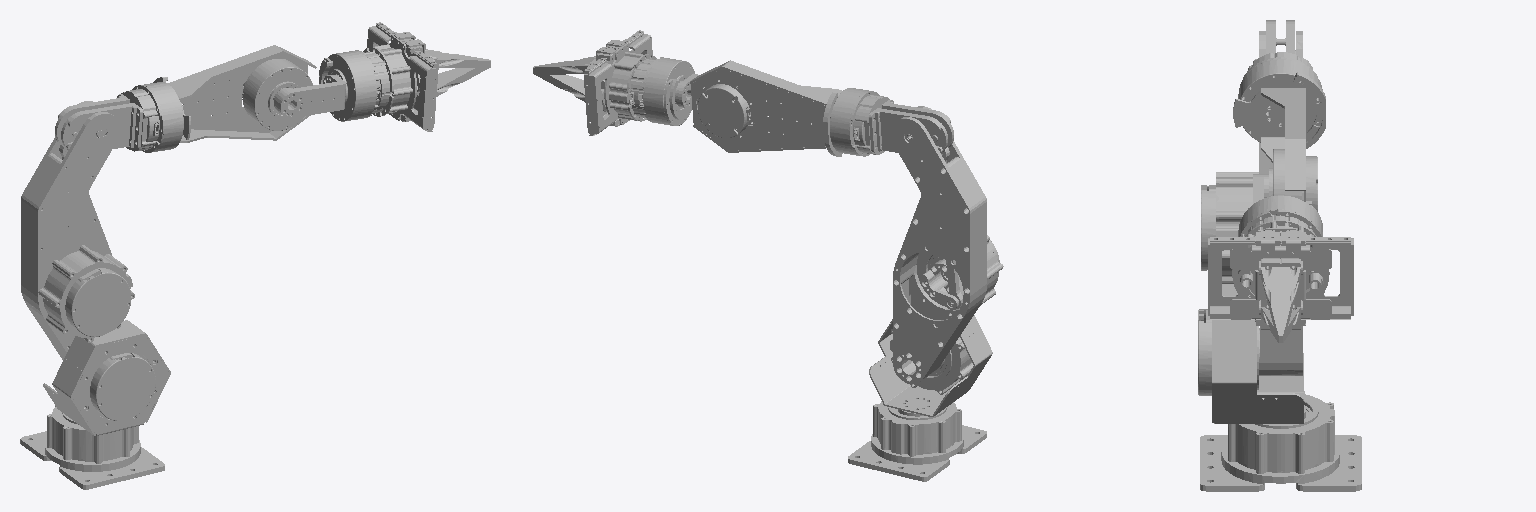
The robot description file, URDF, robot "mevion":
<?xml version='1.0' encoding='UTF-8'?>
<robot name="mevion">
  <link name="RL_base_link">
    <inertial>
      <origin xyz="4.48986707996124e-05 1.56759680411714e-05 0.0271570776976561" rpy="0.0 -0.0 0.0"/>
      <mass value="1.15231569296786"/>
      <inertia ixx="0.00121639765481248" ixy="2.16045733589472e-06" ixz="1.27211558344771e-07" iyy="0.000930183088898648" iyz="7.71652399037108e-07" izz="0.00201898237273294"/>
    </inertial>
    <visual>
      <geometry>
        <mesh filename="package://mevion/models/meshes/base_link.STL"/>
      </geometry>
      <material name="color"/>
      <origin xyz="0.0 0.0 0.0" rpy="0.0 -0.0 0.0"/>
    </visual>
    <collision>
      <geometry>
        <mesh filename="package://mevion/models/meshes/base_link.STL"/>
      </geometry>
      <origin xyz="0.0 0.0 0.0" rpy="0.0 -0.0 0.0"/>
    </collision>
  </link>
  <link name="RL_shoulder_link">
    <inertial>
      <origin xyz="1.32391512477042e-05 -0.0409446319565604 0.0539290225644971" rpy="0.0 -0.0 0.0"/>
      <mass value="1.3644125395524"/>
      <inertia ixx="0.00124826945079962" ixy="7.71652399036369e-07" ixz="1.40973960628106e-06" iyy="0.00225976686875303" iyz="0.000129017482212155" izz="0.00163541860832696"/>
    </inertial>
    <visual>
      <geometry>
        <mesh filename="package://mevion/models/meshes/shoulder_link.STL"/>
      </geometry>
      <material name="color"/>
      <origin xyz="0.0 0.0 0.0" rpy="0.0 -0.0 0.0"/>
    </visual>
    <collision>
      <geometry>
        <mesh filename="package://mevion/models/meshes/shoulder_link.STL"/>
      </geometry>
      <origin xyz="0.0 0.0 0.0" rpy="0.0 -0.0 0.0"/>
    </collision>
  </link>
  <link name="RL_upper_link">
    <inertial>
      <origin xyz="-0.0277618483264825 -0.0012686382672129 0.125214854323048" rpy="0.0 -0.0 0.0"/>
      <mass value="1.80094445183212"/>
      <inertia ixx="0.00803749436721916" ixy="1.14800261763492e-07" ixz="0.000406578011332191" iyy="0.00930308292156413" iyz="-1.22606639516895e-06" izz="0.00145022373082752"/>
    </inertial>
    <visual>
      <geometry>
        <mesh filename="package://mevion/models/meshes/upper_link.STL"/>
      </geometry>
      <material name="color"/>
      <origin xyz="0.0 0.0 0.0" rpy="0.0 -0.0 0.0"/>
    </visual>
    <collision>
      <geometry>
        <mesh filename="package://mevion/models/meshes/upper_link.STL"/>
      </geometry>
      <origin xyz="0.0 0.0 0.0" rpy="0.0 -0.0 0.0"/>
    </collision>
  </link>
  <link name="RL_lower1_link">
    <inertial>
      <origin xyz="0.000216390735208159 0.00085993851271662 0.0518105566861265" rpy="0.0 -0.0 0.0"/>
      <mass value="0.759808237991183"/>
      <inertia ixx="0.000385157367730232" ixy="2.12381732851174e-07" ixz="-6.77307827524159e-08" iyy="0.000439974465703987" iyz="1.32894830907232e-06" izz="0.000468001343308467"/>
    </inertial>
    <visual>
      <geometry>
        <mesh filename="package://mevion/models/meshes/lower1_link.STL"/>
      </geometry>
      <material name="color"/>
      <origin xyz="0.0 0.0 0.0" rpy="0.0 -0.0 0.0"/>
    </visual>
    <collision>
      <geometry>
        <mesh filename="package://mevion/models/meshes/lower1_link.STL"/>
      </geometry>
      <origin xyz="0.0 0.0 0.0" rpy="0.0 -0.0 0.0"/>
    </collision>
  </link>
  <link name="RL_lower2_link">
    <inertial>
      <origin xyz="-0.000278339581275338 0.0123874376852598 0.124865641413663" rpy="0.0 -0.0 0.0"/>
      <mass value="0.583365919550584"/>
      <inertia ixx="0.000771948673443437" ixy="-7.69274924911199e-08" ixz="2.53703947046426e-07" iyy="0.00106516226878555" iyz="-4.63320416929162e-05" izz="0.000375373330701929"/>
    </inertial>
    <visual>
      <geometry>
        <mesh filename="package://mevion/models/meshes/lower2_link.STL"/>
      </geometry>
      <material name="color"/>
      <origin xyz="0.0 0.0 0.0" rpy="0.0 -0.0 0.0"/>
    </visual>
    <collision>
      <geometry>
        <mesh filename="package://mevion/models/meshes/lower2_link.STL"/>
      </geometry>
      <origin xyz="0.0 0.0 0.0" rpy="0.0 -0.0 0.0"/>
    </collision>
  </link>
  <link name="RL_wrist_link">
    <inertial>
      <origin xyz="-1.96082330388783e-16 -0.0041231568611668 0.0340020937943818" rpy="0.0 -0.0 0.0"/>
      <mass value="0.131493017924709"/>
      <inertia ixx="7.37027067414564e-05" ixy="1.58073820480577e-20" ixz="2.25784009070445e-19" iyy="7.41887028724778e-05" iyz="-7.28567584499028e-06" izz="1.53903100360496e-05"/>
    </inertial>
    <visual>
      <geometry>
        <mesh filename="package://mevion/models/meshes/wrist_link.STL"/>
      </geometry>
      <material name="color"/>
      <origin xyz="0.0 0.0 0.0" rpy="0.0 -0.0 0.0"/>
    </visual>
    <collision>
      <geometry>
        <mesh filename="package://mevion/models/meshes/wrist_link.STL"/>
      </geometry>
      <origin xyz="0.0 0.0 0.0" rpy="0.0 -0.0 0.0"/>
    </collision>
  </link>
  <link name="RL_hand_link">
    <inertial>
      <origin xyz="0.000159003479216479 -0.000163984402889978 0.0525704717537405" rpy="0.0 -0.0 0.0"/>
      <mass value="0.978434240360148"/>
      <inertia ixx="0.000520820242382646" ixy="-1.76299593288957e-06" ixz="8.17043569888491e-08" iyy="0.000400595546523087" iyz="1.65229042549845e-06" izz="0.000858089167834087"/>
    </inertial>
    <visual>
      <geometry>
        <mesh filename="package://mevion/models/meshes/hand_link.STL"/>
      </geometry>
      <material name="color"/>
      <origin xyz="0.0 0.0 0.0" rpy="0.0 -0.0 0.0"/>
    </visual>
    <collision>
      <geometry>
        <mesh filename="package://mevion/models/meshes/hand_link.STL"/>
      </geometry>
      <origin xyz="0.0 0.0 0.0" rpy="0.0 -0.0 0.0"/>
    </collision>
  </link>
  <link name="RL_gripper_link_left">
    <inertial>
      <origin xyz="-1.32198004197986e-08 0.0115784140352716 0.00240127722711736" rpy="0.0 -0.0 0.0"/>
      <mass value="0.122787167555386"/>
      <inertia ixx="2.85978247230261e-05" ixy="3.08272354522243e-12" ixz="-9.47873944077953e-12" iyy="6.781592338682e-05" iyz="1.90382486267302e-06" izz="4.61876729265133e-05"/>
    </inertial>
    <visual>
      <geometry>
        <mesh filename="package://mevion/models/meshes/gripper_link_left.STL"/>
      </geometry>
      <material name="color"/>
      <origin xyz="0.0 0.0 0.0" rpy="0.0 -0.0 0.0"/>
    </visual>
    <collision>
      <geometry>
        <mesh filename="package://mevion/models/meshes/gripper_link_left.STL"/>
      </geometry>
      <origin xyz="0.0 0.0 0.0" rpy="0.0 -0.0 0.0"/>
    </collision>
  </link>
  <link name="RL_gripper_link_right">
    <inertial>
      <origin xyz="1.32198536631412e-08 -0.0115784140352595 0.00240127722700467" rpy="0.0 -0.0 0.0"/>
      <mass value="0.12278716755486"/>
      <inertia ixx="2.85978247229801e-05" ixy="3.08277439819197e-12" ixz="9.47875029139586e-12" iyy="6.78159233867156e-05" iyz="-1.90382486266821e-06" izz="4.61876729263949e-05"/>
    </inertial>
    <visual>
      <geometry>
        <mesh filename="package://mevion/models/meshes/gripper_link_right.STL"/>
      </geometry>
      <material name="color"/>
      <origin xyz="0.0 0.0 0.0" rpy="0.0 -0.0 0.0"/>
    </visual>
    <collision>
      <geometry>
        <mesh filename="package://mevion/models/meshes/gripper_link_right.STL"/>
      </geometry>
      <origin xyz="0.0 0.0 0.0" rpy="0.0 -0.0 0.0"/>
    </collision>
  </link>
  <joint name="shoulder_yaw" type="revolute">
    <parent link="RL_base_link"/>
    <child link="RL_shoulder_link"/>
    <axis xyz="0. 0. 1."/>
    <limit lower="-1.58" upper="1.58" effort="60" velocity="18.85" />
    <origin xyz="0.0 0.0 0.058" rpy="0.0 -0.0 0.0"/>
  </joint>
  <joint name="shoulder_pitch" type="revolute">
    <parent link="RL_shoulder_link"/>
    <child link="RL_upper_link"/>
    <axis xyz=" 0. 1.  0."/>
    <limit lower="-0.91" upper="1.45" effort="60" velocity="18.85" /> <!---(-52.45, 83.25) -->
    <origin xyz="0.0 -0.02 0.0580000000000024" rpy="0.0 -0.0 0.0"/>
  </joint>
  <joint name="elbow_pitch" type="revolute">
    <parent link="RL_upper_link"/>
    <child link="RL_lower1_link"/>
    <axis xyz=" 0. 1.  0."/>
    <limit lower="0.61" upper="2.69" effort="60" velocity="18.85" /> <!---(35, 154.15) -->
    <origin xyz="0.0 0.02 0.3" rpy="0.0 -0.0 0.0"/>
  </joint>
  <joint name="elbow_yaw" type="revolute">
    <parent link="RL_lower1_link"/>
    <child link="RL_lower2_link"/>
    <axis xyz="0. 0. 1."/>
    <limit lower="-1.58" upper="1.58" effort="17" velocity="37.5" />
    <origin xyz="0.0 0.0 0.102000000000004" rpy="0.0 -0.0 0.0"/>
  </joint>
  <joint name="wrist_pitch" type="revolute">
    <parent link="RL_lower2_link"/>
    <child link="RL_wrist_link"/>
    <axis xyz="0. 1. 0."/>
    <limit lower="-2.06" upper="2.06" effort="17" velocity="37.5" /> <!---(-118.04, 118.04) -->
    <origin xyz="0.0 -0.011000000000004 0.148" rpy="0.0 -0.0 0.0"/>
  </joint>
  <joint name="wrist_yaw" type="revolute">
    <parent link="RL_wrist_link"/>
    <child link="RL_hand_link"/>
    <axis xyz=" 0.  0. 1."/>
    <limit lower="-1.58" upper="1.58" effort="17" velocity="37.5" />
    <origin xyz="0.0 0.0110000000000001 0.072" rpy="0.0 -0.0 0.0"/>
  </joint>
  <joint name="gripper_prismatic_left" type="prismatic">
    <parent link="RL_hand_link"/>
    <child link="RL_gripper_link_left"/>
    <axis xyz="0. 1. 0."/>
    <limit lower="0.0" upper="0.0415" effort="12" velocity="25.0" />
    <origin xyz="0.0 0.0 0.105500000000004" rpy="0.0 -0.0 0.0"/>
  </joint>
  <joint name="gripper_prismatic_right" type="prismatic">
    <mimic joint="gripper_prismatic_left" multiplier="1.0" offset="0.0"/>
    <parent link="RL_hand_link"/>
    <child link="RL_gripper_link_right"/>
    <axis xyz=" 0. -1.  0."/>
    <limit lower="0.0" upper="0.0415" effort="12" velocity="25.0" />
    <origin xyz="0.0 0.0 0.105500000000004" rpy="0.0 -0.0 0.0"/>
  </joint>
  <material name="color">
    <color rgba="0.75294118 0.75294118 0.75294118 1.        "/>
  </material>
</robot>

--- What the picture shows (computed from the rendered views, not written in the file) ---
3 views of the same robot in one strip: view 1: azimuth 30°, elevation 25°; view 2: azimuth 150°, elevation 25°; view 3: azimuth 270°, elevation 25° (orthographic).
Robot: mevion — 9 links, 8 joints (6 revolute, 2 prismatic); root link RL_base_link; default pose: joints at zero except 1 at the middle of their limits (elbow_pitch = 1.65).
Links seen in each view (by area): view 1: RL_upper_link, RL_shoulder_link, RL_lower2_link, RL_hand_link, RL_base_link, RL_lower1_link, RL_wrist_link, RL_gripper_link_right; view 2: RL_upper_link, RL_lower2_link, RL_hand_link, RL_base_link, RL_shoulder_link, RL_lower1_link, RL_gripper_link_left; view 3: RL_base_link, RL_hand_link, RL_shoulder_link, RL_lower2_link, RL_upper_link, RL_lower1_link, RL_gripper_link_right, RL_gripper_link_left.
Boxes of the visible links, box(x1,y1,x2,y2) form: RL_upper_link: box(21, 101, 134, 359); RL_shoulder_link: box(43, 320, 170, 435); RL_lower2_link: box(168, 45, 316, 142); RL_hand_link: box(319, 22, 438, 131); RL_base_link: box(20, 406, 164, 489); RL_lower1_link: box(55, 77, 183, 152); RL_wrist_link: box(274, 75, 346, 117); RL_gripper_link_right: box(401, 39, 490, 121); RL_upper_link: box(891, 106, 1003, 383); RL_lower2_link: box(690, 60, 841, 152); RL_hand_link: box(584, 30, 694, 135); RL_base_link: box(848, 401, 986, 481); RL_shoulder_link: box(869, 315, 992, 416); RL_lower1_link: box(823, 88, 953, 156); RL_gripper_link_left: box(533, 47, 619, 126); RL_base_link: box(1200, 391, 1361, 491); RL_hand_link: box(1208, 195, 1353, 319); RL_shoulder_link: box(1198, 284, 1303, 423); RL_lower2_link: box(1233, 88, 1317, 211); RL_upper_link: box(1201, 31, 1302, 375); RL_lower1_link: box(1238, 20, 1325, 148); RL_gripper_link_right: box(1255, 230, 1280, 342); RL_gripper_link_left: box(1281, 230, 1305, 342).
Bounding box of the posed robot: 0.6102 × 0.1516 × 0.4516 m (x, y, z).
Meshes: 9 distinct files referenced, 9 mesh visuals loaded (9 binary STL).
